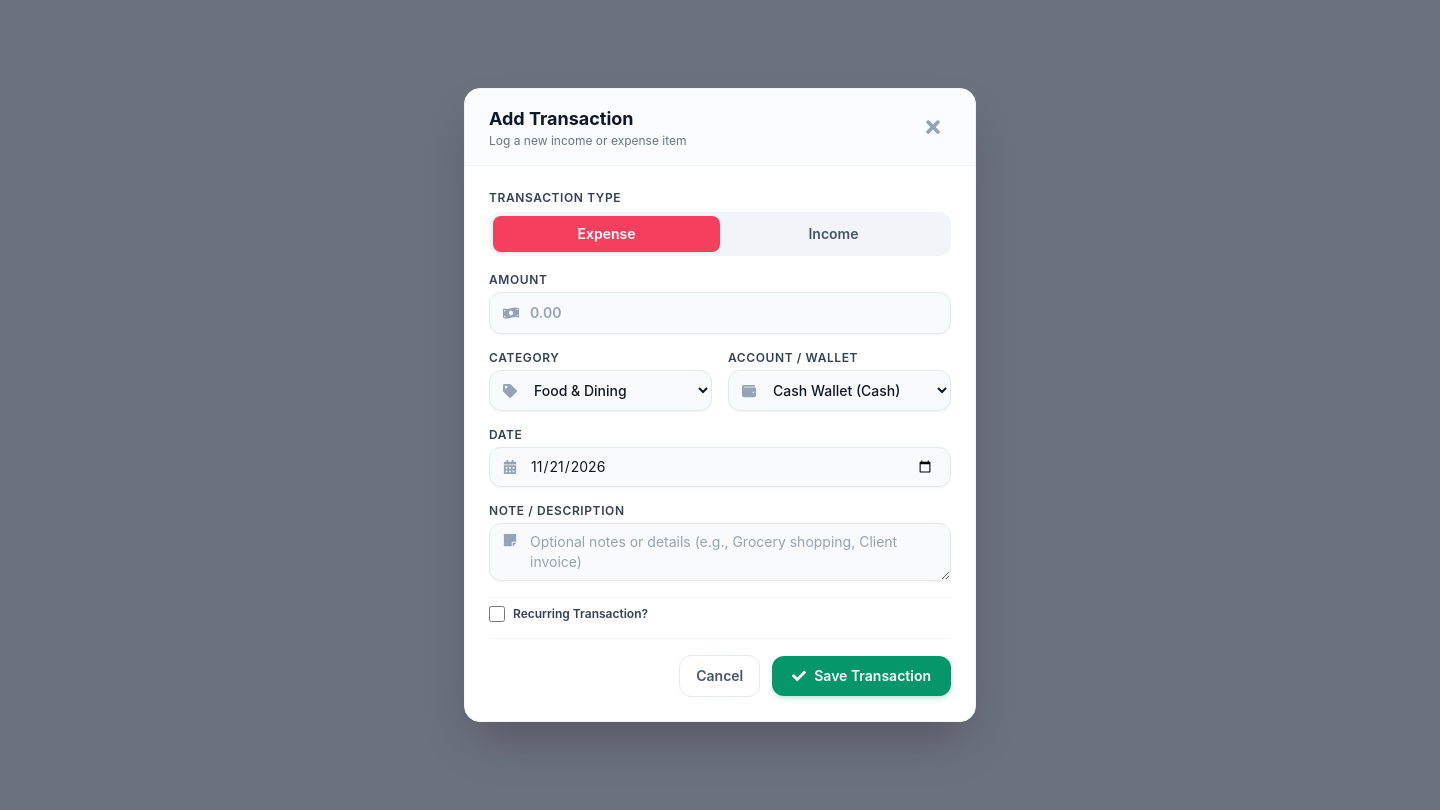
Scenario: TransactionModal Component › enforces amount validation: prevents submission when amount is non-positive or zero
This screenshot has width=1440, height=810.
# Test with 0
In the number field labelled "Amount": coordinates (720, 313) x1=489 y1=292 x2=951 y2=334, type "0"
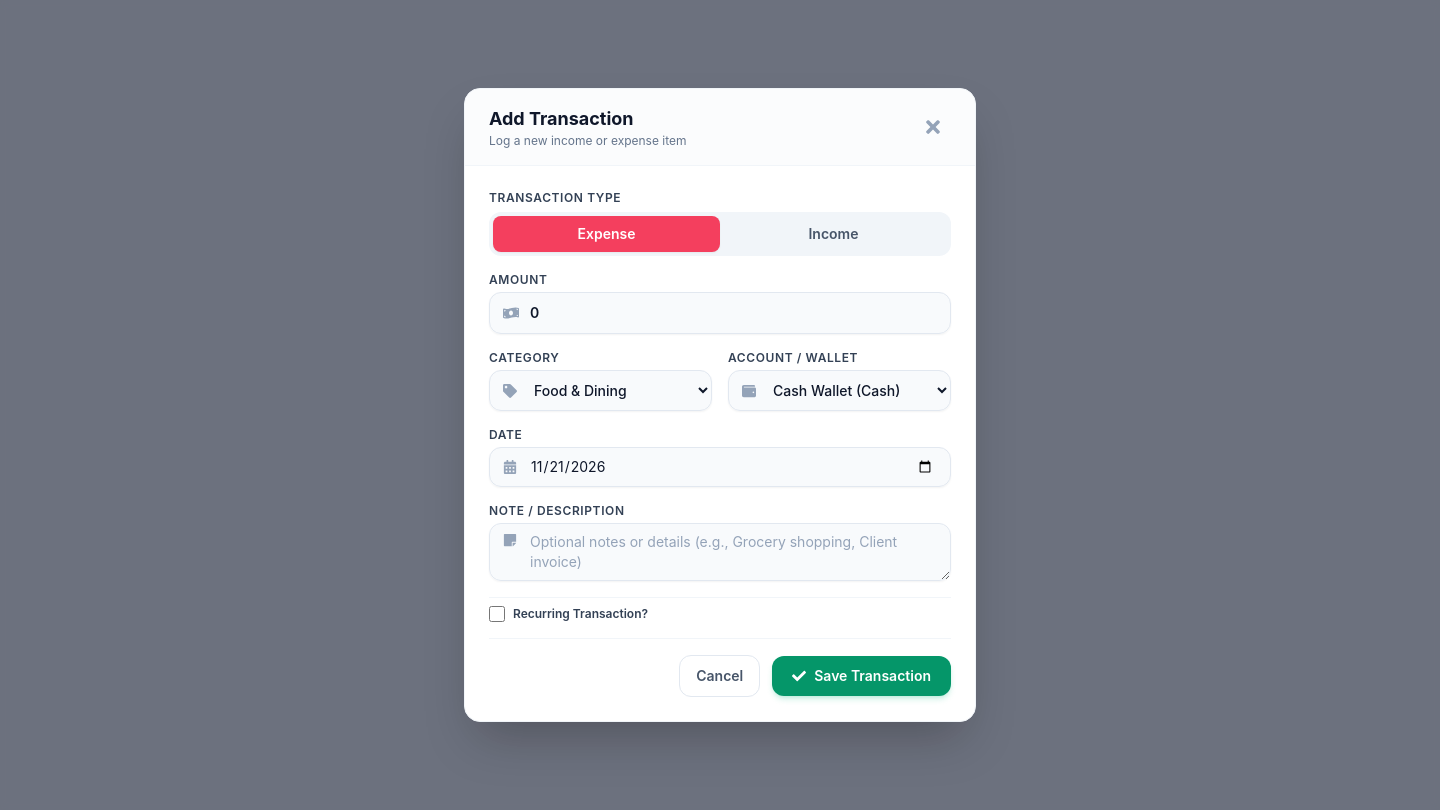
Submit the form labelled "Amount", box x1=465 y1=166 x2=975 y2=721
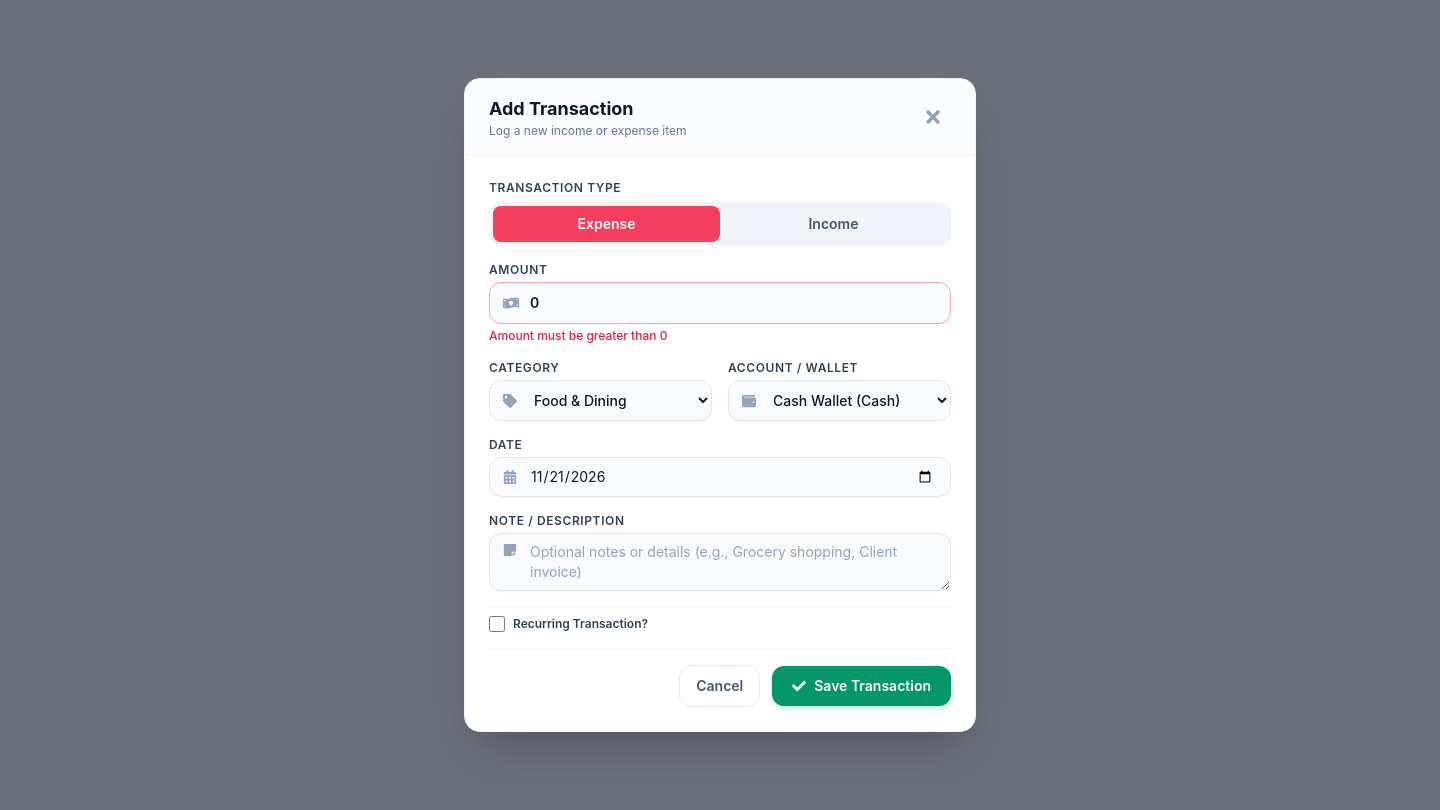
Expected: the text "Amount must be greater than 0" is shown, x1=489 y1=328 x2=667 y2=343
# Test with negative value
Replace the text in the number field labelled "Amount" with "-25.50": coordinates (720, 303) x1=489 y1=282 x2=951 y2=324
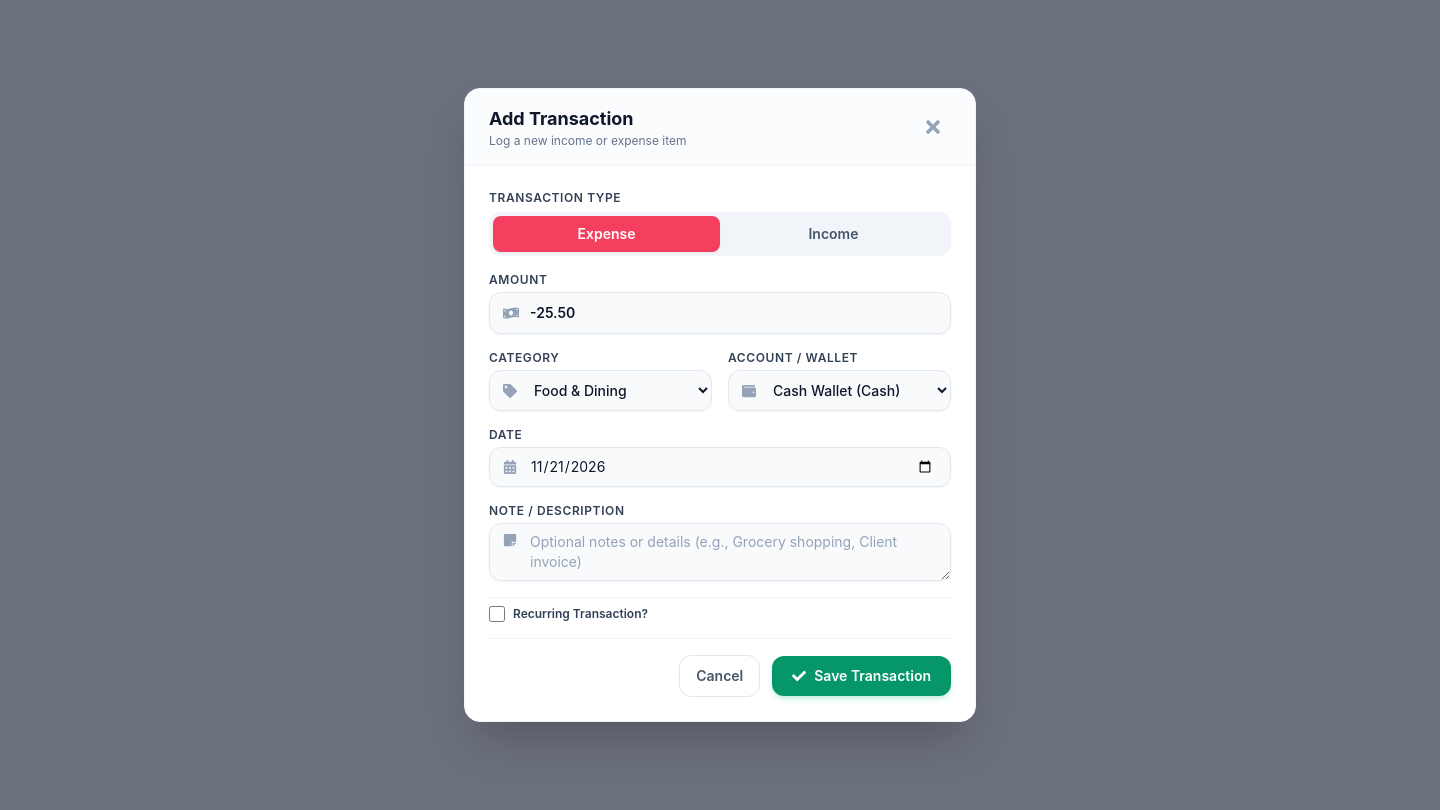
Submit the form labelled "Amount", box x1=465 y1=166 x2=975 y2=721
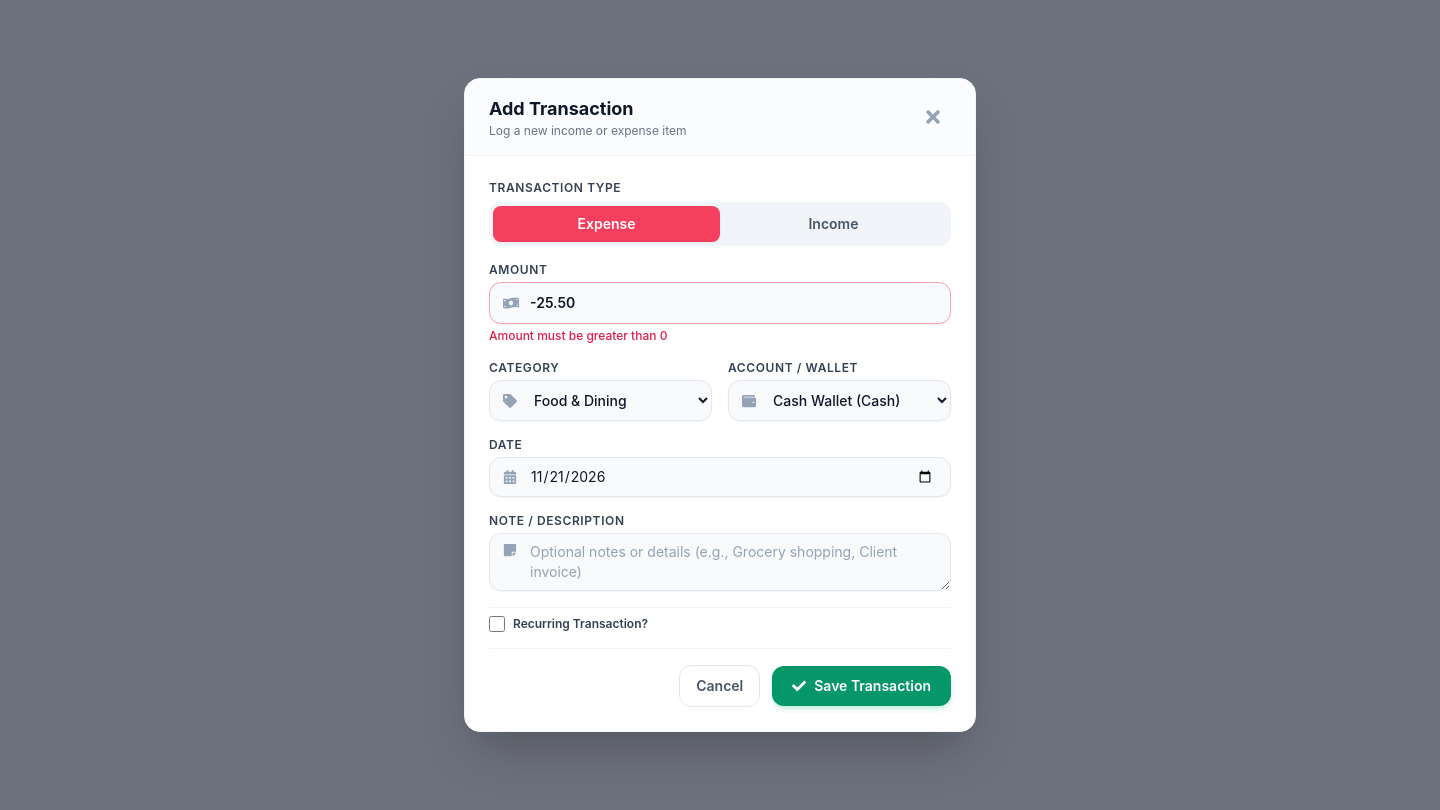
Expected: the text "Amount must be greater than 0" is shown, x1=489 y1=328 x2=667 y2=343
